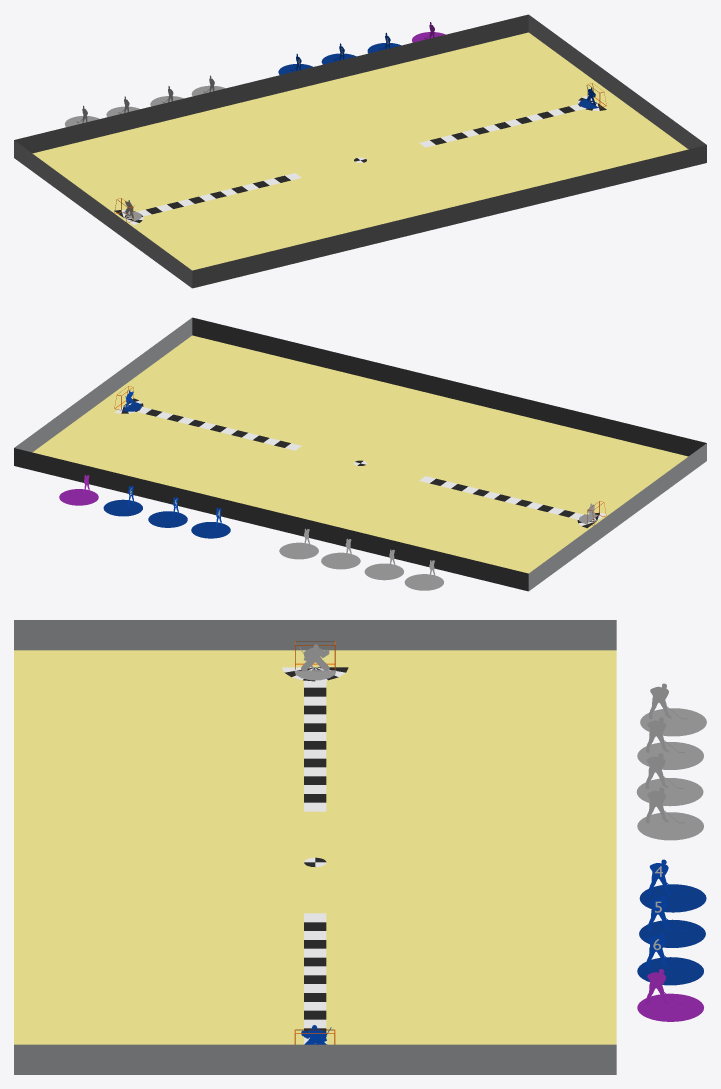
File: hall.glb
3 views of the same model, one above another, from view 1: azimuth 30°, elevation 25°; view 2: azimuth 150°, elevation 25°; view 3: azimuth 270°, elevation 25° (orthographic). The views are drawn at different scales.
Visible parts, largest first — view 1: rink-floor, rink-band, dist-2, dist-1; view 2: rink-floor, rink-band, dist-2, dist-1, player-g-2, player-g-3, player-h-0, player-g-4, player-g-1, player-h-1, player-h-2, player-h-3; view 3: rink-floor, rink-band, dist-2, dist-1, player-g-4, player-h-0, player-g-2, player-h-2, player-g-1, player-h-3, player-h-1, player-g-3 (+1 smaller).
Part boxes in pixels (x1,y1,x2,y2): rink-floor: (32,32,688,270); rink-band: (14,14,706,288); dist-2: (137,173,301,216); dist-1: (419,104,583,147); rink-floor: (32,335,688,573); rink-band: (14,317,706,591); dist-2: (419,476,583,519); dist-1: (137,407,301,450); player-g-2: (364,549,403,580); player-g-3: (321,538,360,569); player-h-0: (59,475,98,505); player-g-4: (279,528,318,559); player-g-1: (404,560,443,590); player-h-1: (191,508,230,538); player-h-2: (148,497,187,527); player-h-3: (103,486,142,516); rink-floor: (14,650,616,1044); rink-band: (14,620,616,1074); dist-2: (304,680,326,811); dist-1: (304,913,326,1044); player-g-4: (637,787,703,840); player-h-0: (637,969,703,1021); player-g-2: (637,717,703,769); player-h-2: (639,895,705,947); player-g-1: (640,683,706,736); player-h-3: (637,932,703,985); player-h-1: (639,859,706,912); player-g-3: (636,753,703,806).
Bounding box in the file's own units: 45 × 1.79 × 31.05.
